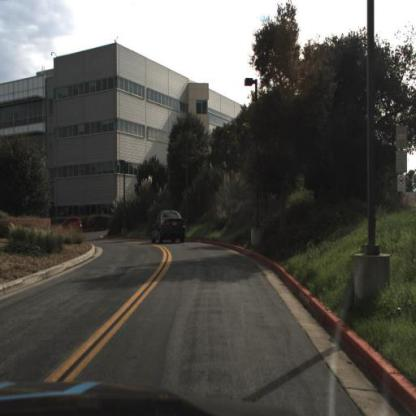car: (150, 208, 186, 247), (59, 215, 85, 236)
